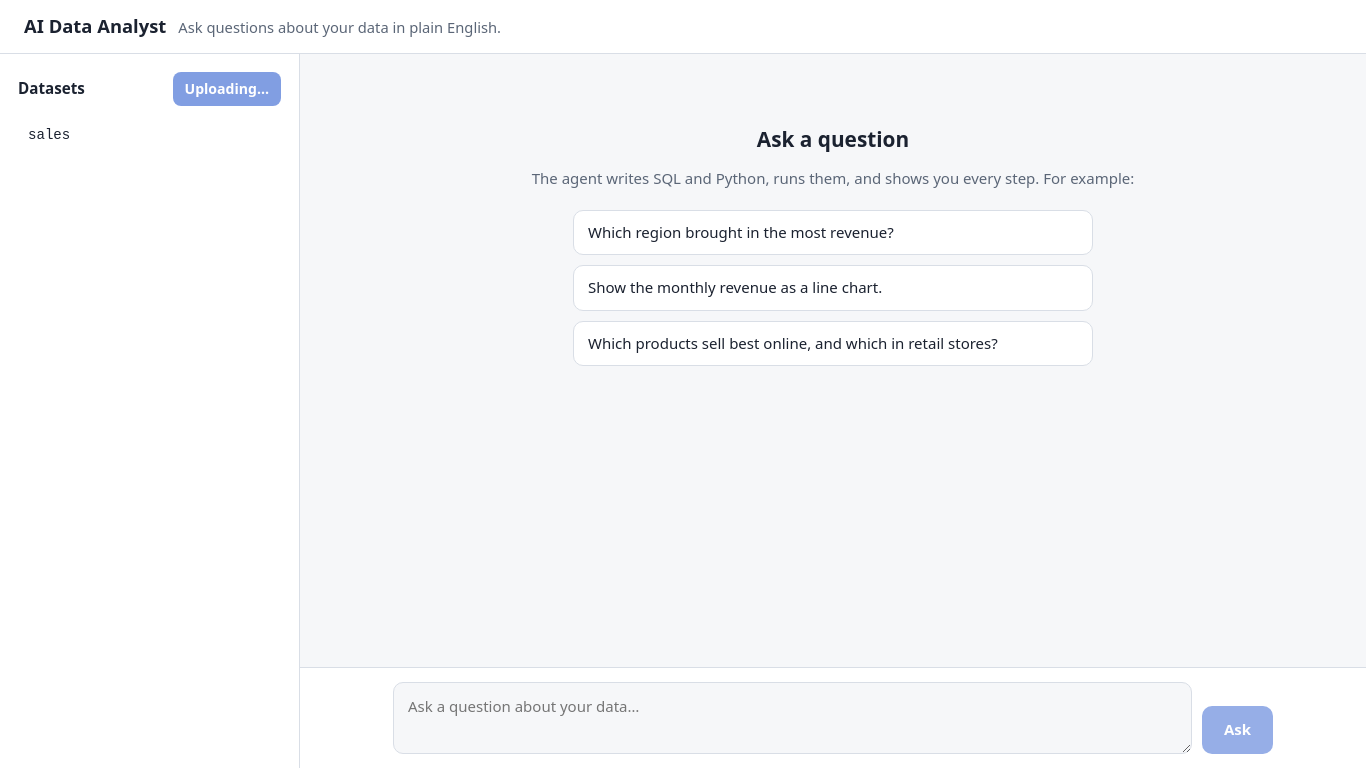
it: DatasetPanel › keeps the dataset opened during an upload, and still shows the upload's error
Earlier steps of the test are not shown.
Later steps or results of the test are not shown.
Click the button "sales" at (49, 135), box [18,118,281,153]
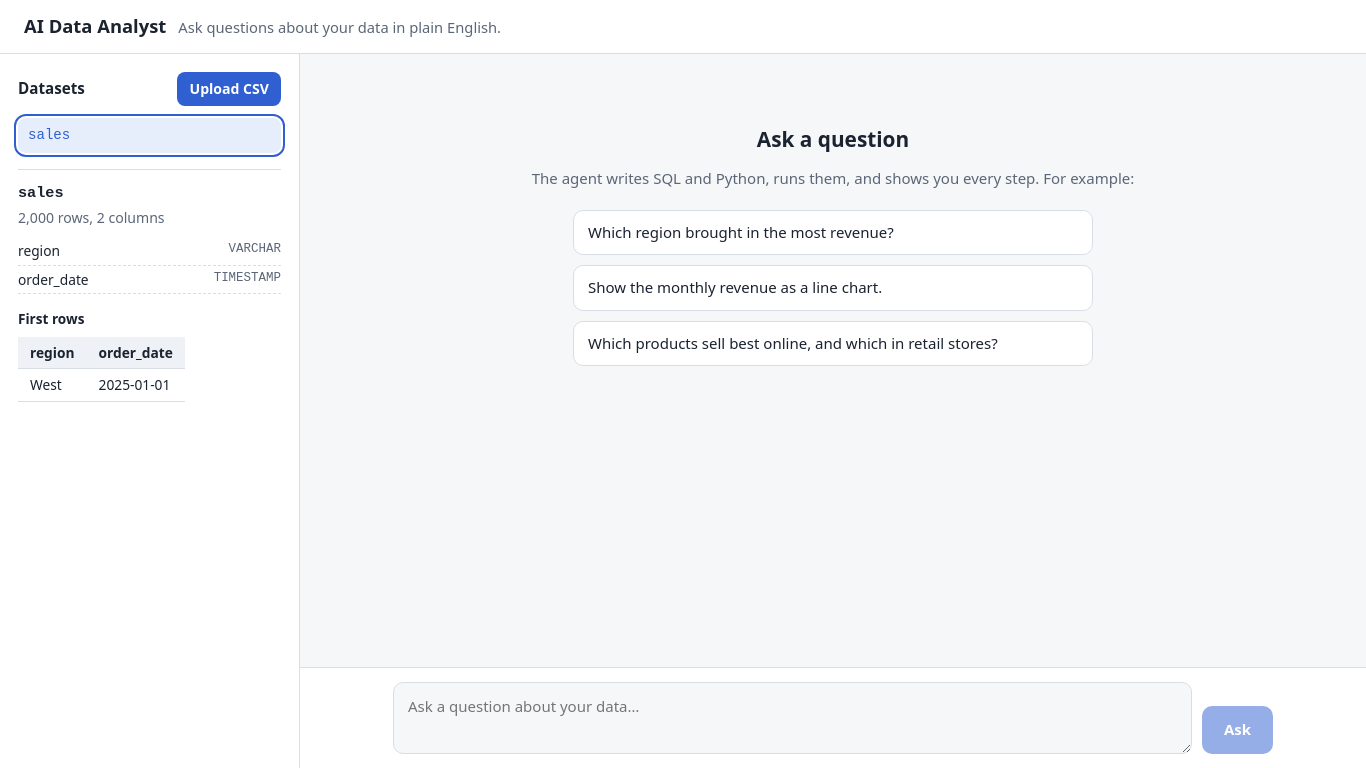
Result: the element named "Details of sales" is shown at [18,169,281,402]
